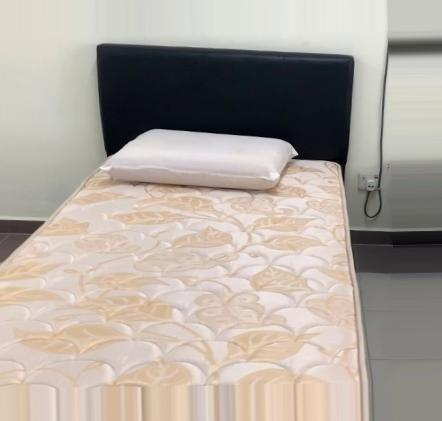bed: (0, 31, 361, 420)
